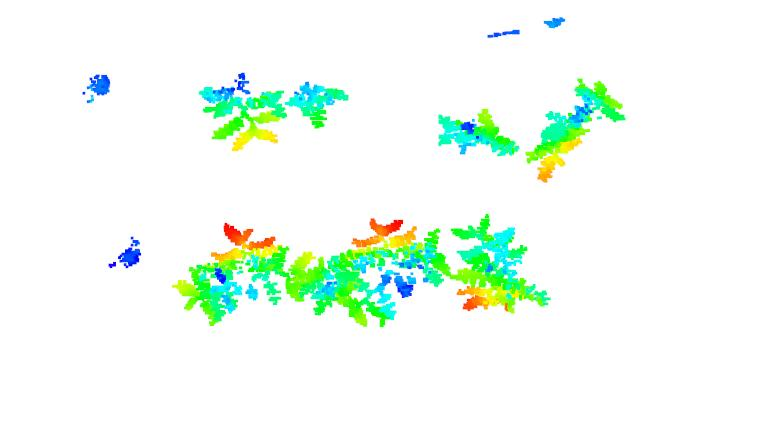chickpea: (177, 217, 286, 326), (452, 209, 554, 319), (524, 79, 630, 183), (296, 246, 398, 332), (355, 214, 459, 298), (201, 75, 286, 152), (434, 105, 524, 160), (286, 77, 355, 128)
